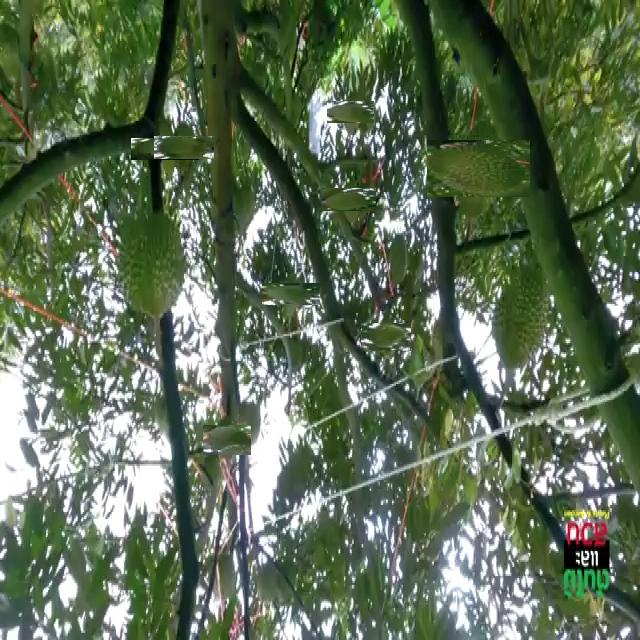durian: (114, 206, 184, 320), (489, 257, 552, 372), (438, 128, 519, 208), (142, 126, 187, 172), (163, 126, 205, 168), (230, 395, 262, 450), (271, 273, 311, 314), (207, 420, 247, 459), (366, 317, 405, 357), (330, 180, 369, 219), (387, 228, 409, 288), (333, 94, 369, 130)
